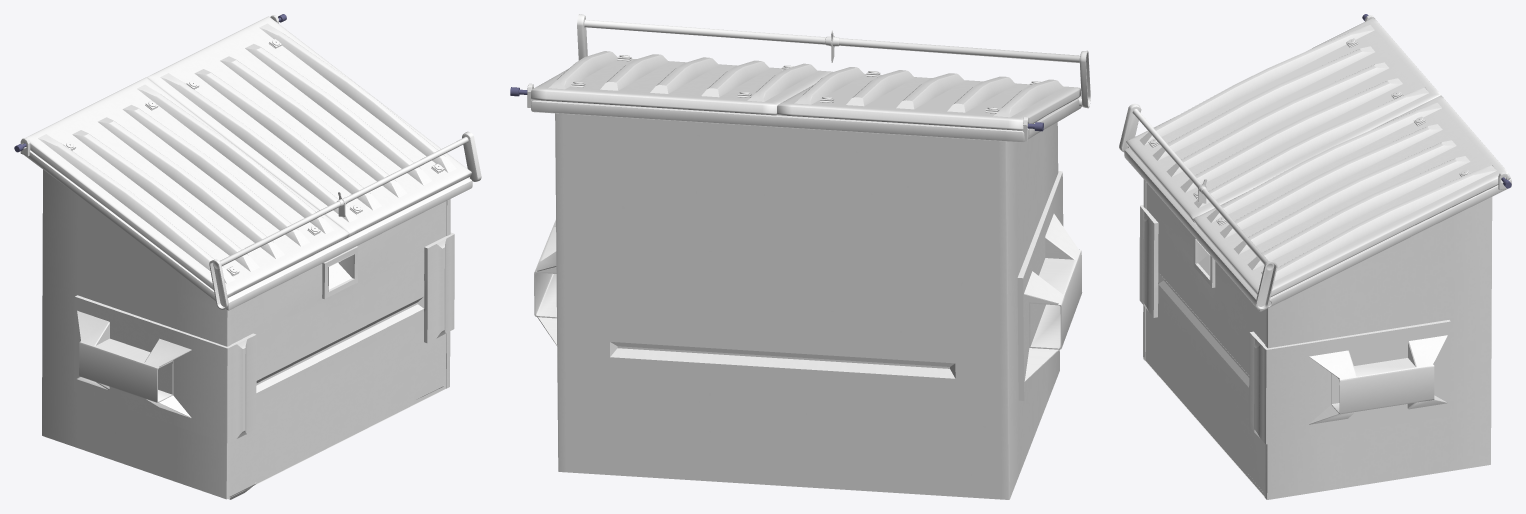
File: Dumpster_Red.FBX
3 views of the same model, side by side, from view 1: azimuth 30°, elevation 25°; view 2: azimuth 150°, elevation 25°; view 3: azimuth 270°, elevation 25° (orthographic). The views are drawn at different scales.
Visible parts, largest first — view 1: Body_Dumpster, Lid_Left, Lid_Right, Metal_Rod; view 2: Body_Dumpster, Lid_Left, Lid_Right, Metal_Rod; view 3: Body_Dumpster, Lid_Right, Lid_Left, Metal_Rod.
Boxes of the visible parts, x1,y1,x2,y2 form: Body_Dumpster: [20, 15, 472, 499]; Lid_Left: [24, 77, 349, 297]; Lid_Right: [146, 16, 471, 237]; Metal_Rod: [209, 131, 481, 309]; Body_Dumpster: [527, 83, 1082, 499]; Lid_Left: [776, 67, 1080, 130]; Lid_Right: [531, 51, 832, 115]; Metal_Rod: [577, 14, 1090, 108]; Body_Dumpster: [1124, 15, 1511, 499]; Lid_Right: [1193, 95, 1510, 296]; Lid_Left: [1126, 17, 1441, 222]; Metal_Rod: [1119, 103, 1277, 309].
Size of the model in its own units: 116 by 82.6 by 96.02.
